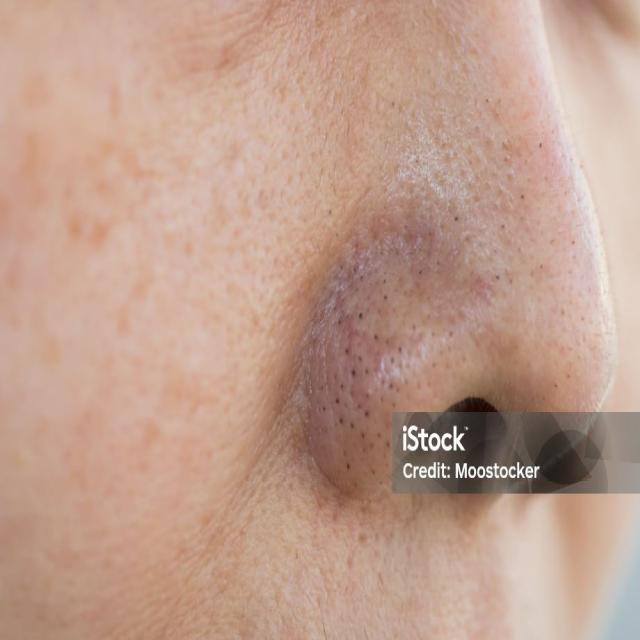blackhead: (330, 61, 613, 502)
